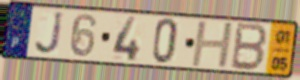0: (152, 17, 183, 66)
4: (110, 14, 144, 63)
6: (69, 12, 99, 60)
B: (228, 21, 270, 74)
H: (189, 20, 236, 69)
J: (33, 10, 65, 57)
